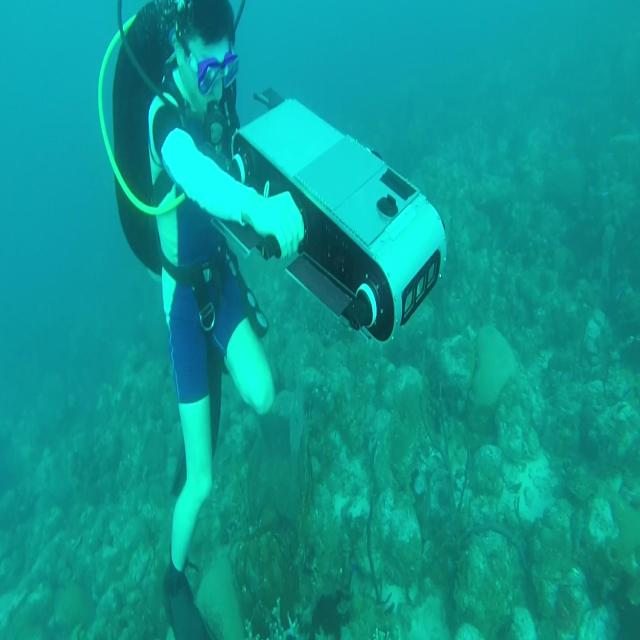human: (106, 1, 307, 637)
